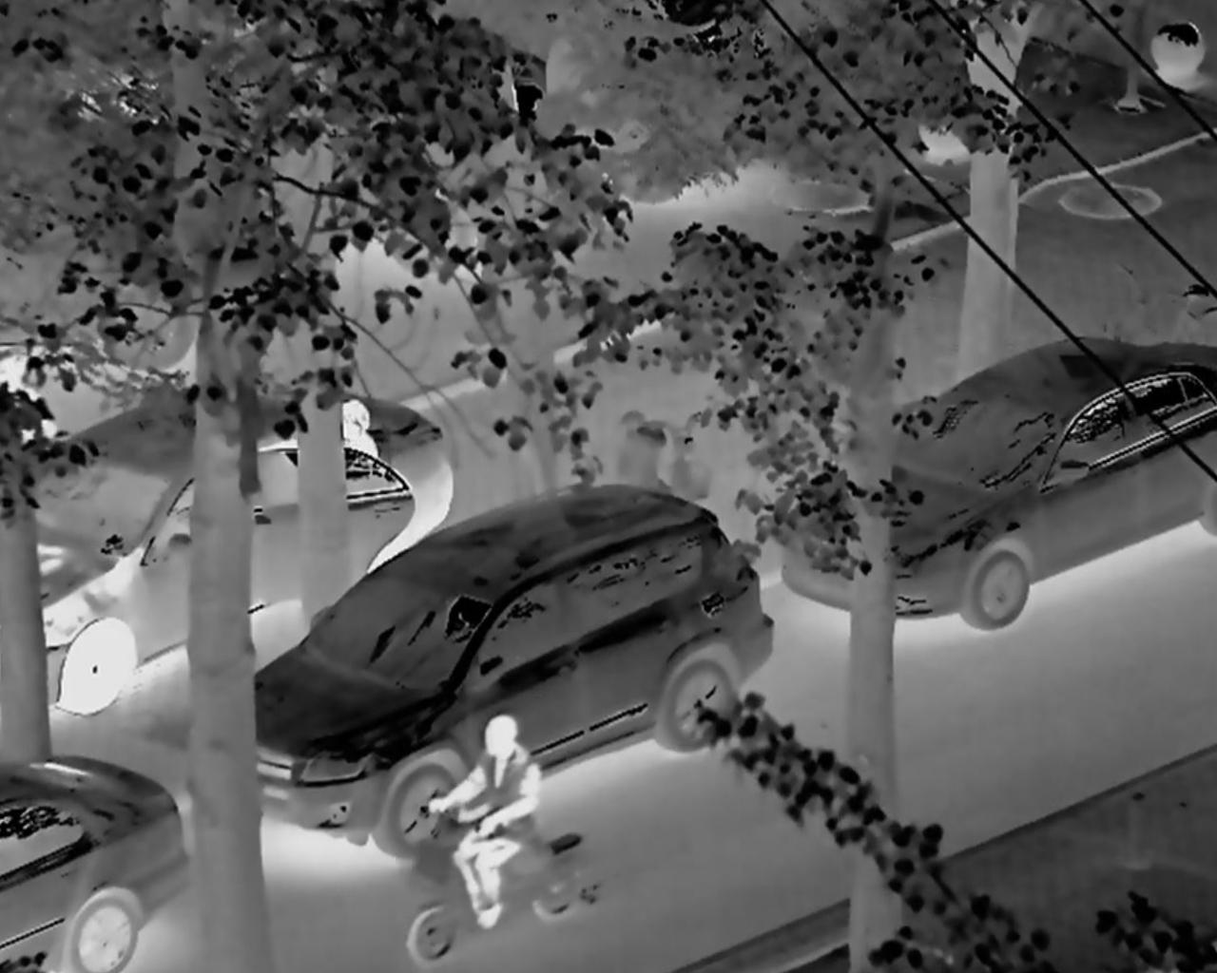person: (429, 717, 549, 926), (332, 373, 389, 503)
